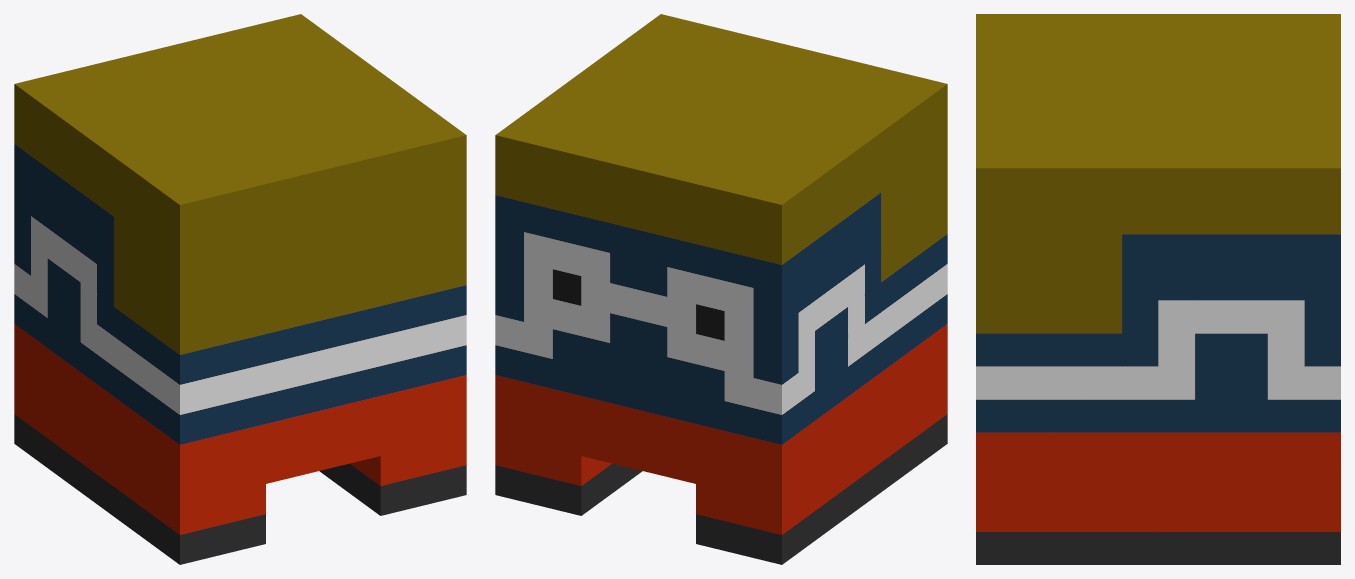
The model's file is Character_20.fbx.
3 views of the same model, side by side, from view 1: azimuth 30°, elevation 25°; view 2: azimuth 150°, elevation 25°; view 3: azimuth 270°, elevation 25° (orthographic). The views are drawn at different scales.
Visible parts, largest first — view 1: Character_20; view 2: Character_20; view 3: Character_20.
Boxes of the visible parts, box(x1,y1,x2,y2) form: Character_20: box(14, 14, 466, 564); Character_20: box(495, 14, 947, 564); Character_20: box(976, 14, 1340, 564).
Size of the model in its own units: 10 by 12 by 10.
1 material, 1 textured.
